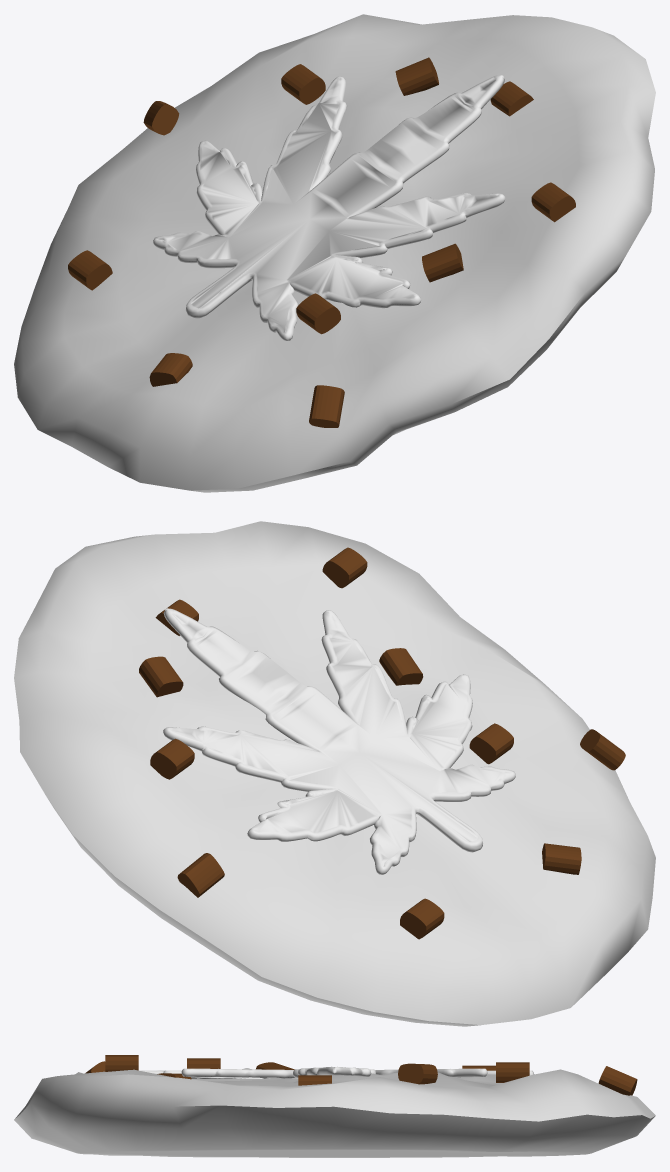
Rendered from CookieWeed.fbx.
The picture shows the model from 3 angles, top to bottom: view 1: azimuth 30°, elevation 25°; view 2: azimuth 150°, elevation 25°; view 3: azimuth 270°, elevation 25°; orthographic projection. The views are drawn at different scales.
Visible parts, largest first — view 1: Bake_Cookie_Special; view 2: Bake_Cookie_Special; view 3: Bake_Cookie_Special.
Part boxes in pixels (x1=…): Bake_Cookie_Special: x1=14, y1=14, x2=655, y2=492; Bake_Cookie_Special: x1=14, y1=521, x2=655, y2=1026; Bake_Cookie_Special: x1=14, y1=1055, x2=655, y2=1157.
Bounding box in the file's own units: 12.75 × 6.83 × 14.02.
